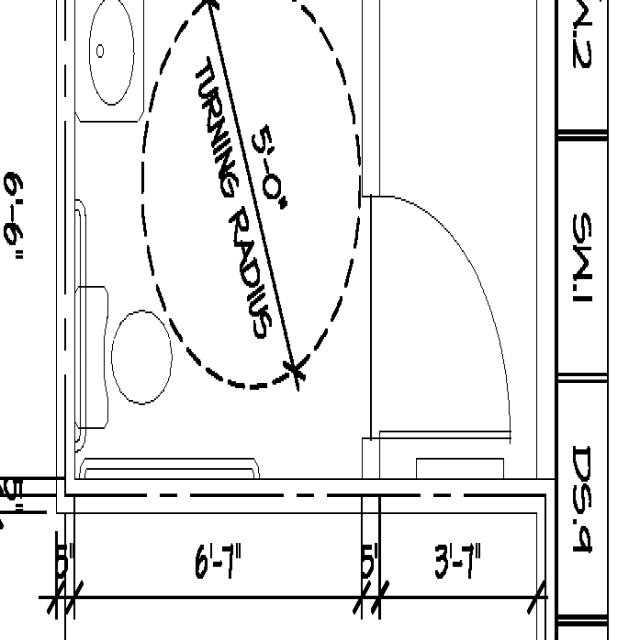Doors: (365, 190, 513, 450)
